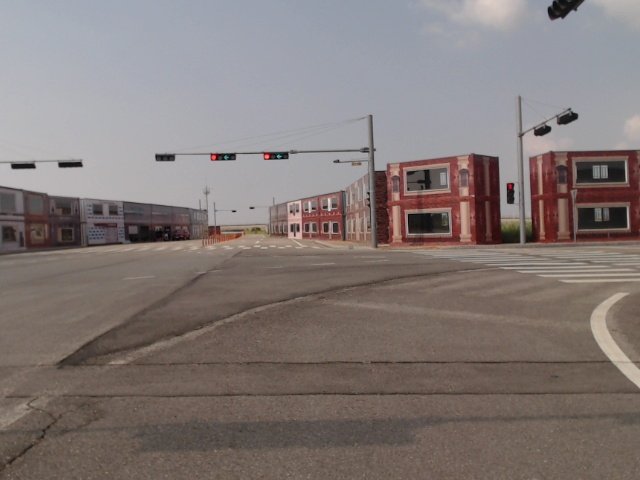left_green_4: (211, 154, 237, 161), (264, 152, 288, 159)
